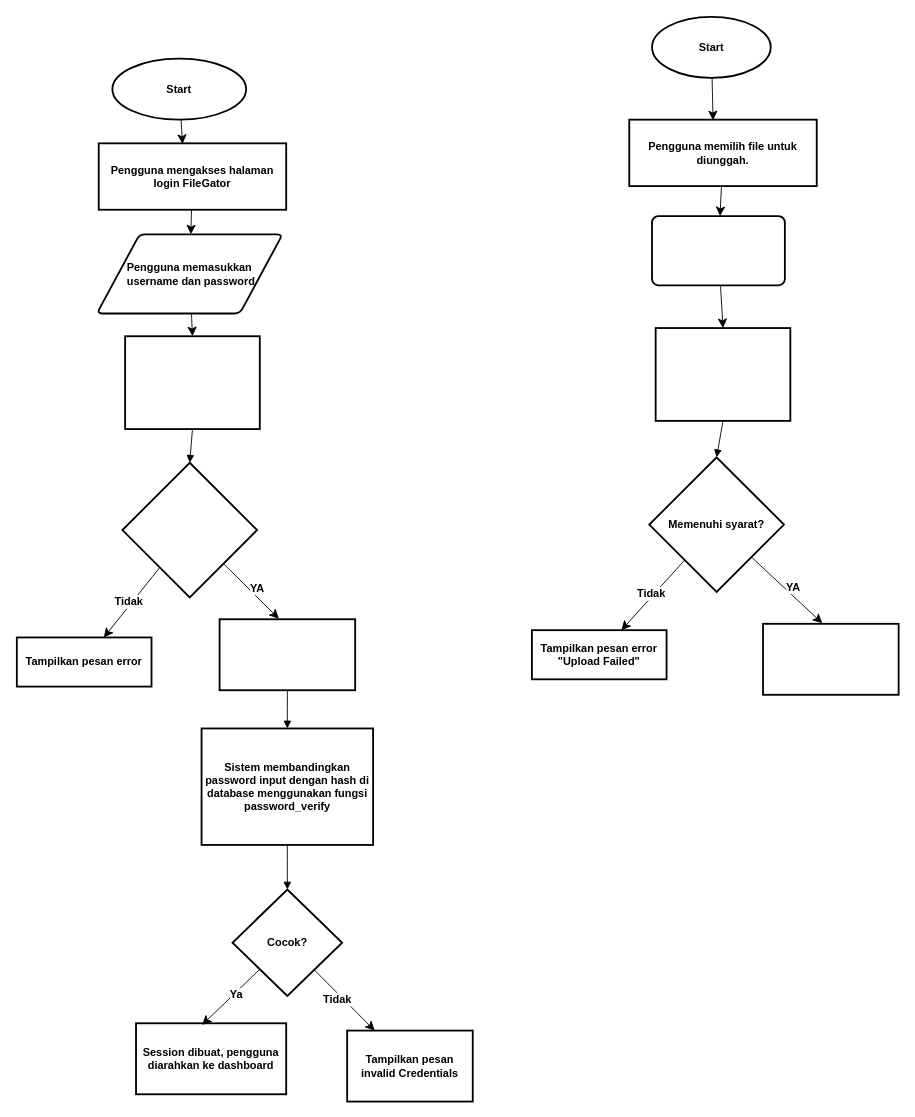
Image size: 915x1117. Some labels were removed from this diagram. The centre of each missing label's shape, as x and y in pixels:
"File dipindahkan dari direktori sementara PHP ke folder /repository." goes at point 830,658.
"Lanjut ke verifikasi password" goes at point 287,654.
"Sistem memverifikasi apakah ukuran file ≤ 10MB" goes at point 722,374.
"Sistem mencari username tersebut di tabel users" goes at point 192,382.
"Sistem mengecek kolom permissions di database" goes at point 718,250.
"Username ditemukan?" goes at point 189,529.
